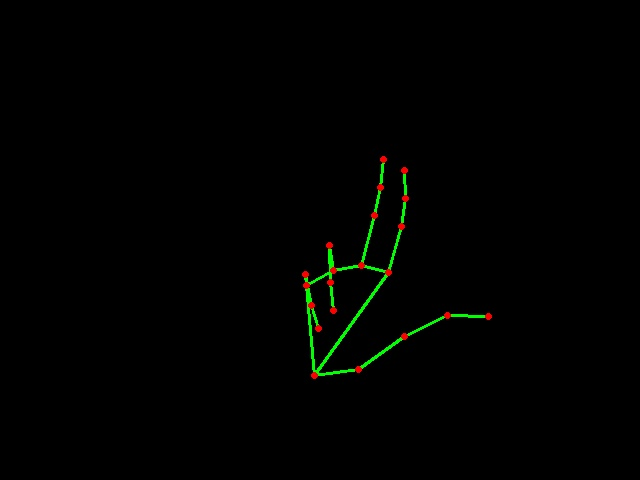forward: (281, 136, 498, 385)
